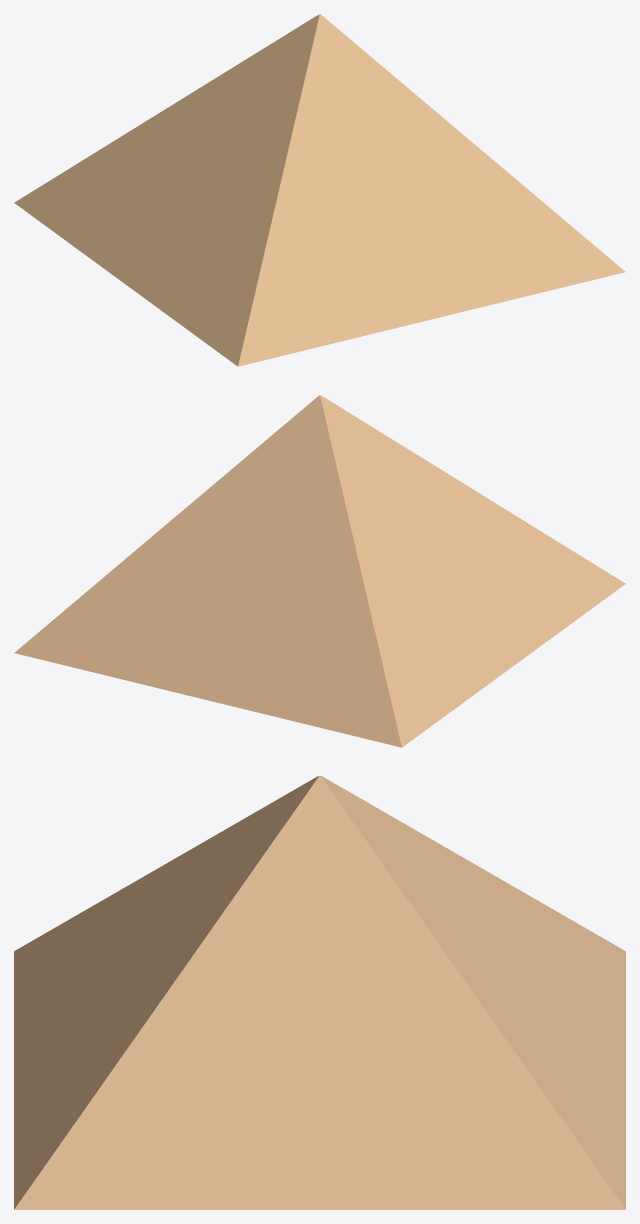
3 renders of one model, top to bottom at view 1: azimuth 30°, elevation 25°; view 2: azimuth 150°, elevation 25°; view 3: azimuth 270°, elevation 25°, orthographic. The views are drawn at different scales.
Visible parts, largest first — view 1: Pyramid; view 2: Pyramid; view 3: Pyramid.
Boxes of the visible parts, x1=… form: Pyramid: x1=14, y1=14, x2=625, y2=366; Pyramid: x1=14, y1=395, x2=625, y2=747; Pyramid: x1=14, y1=776, x2=625, y2=1209.
Bounding box in the file's own units: 14600 × 8000 × 14600.
